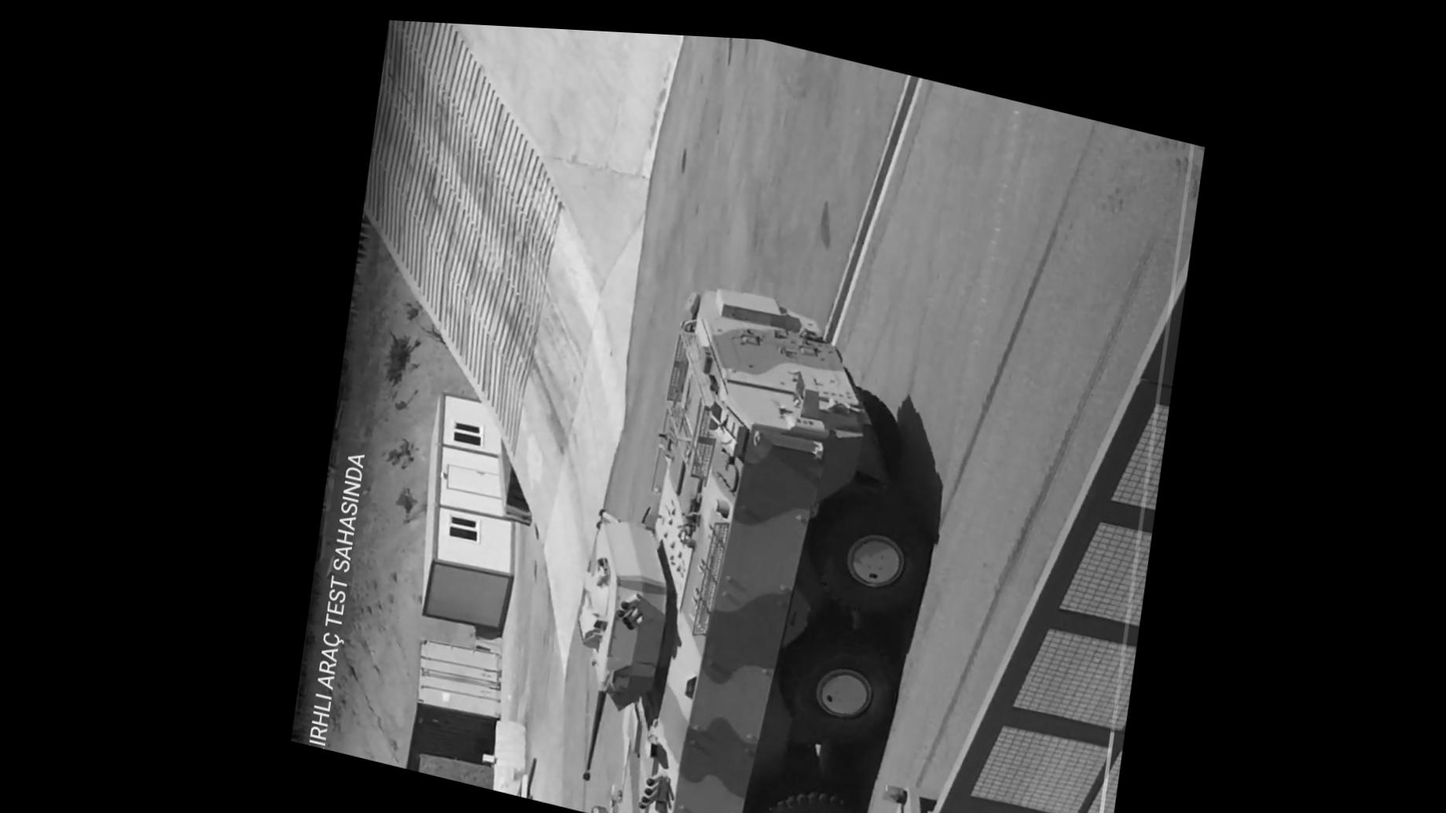armored_car: (514, 251, 994, 813)
